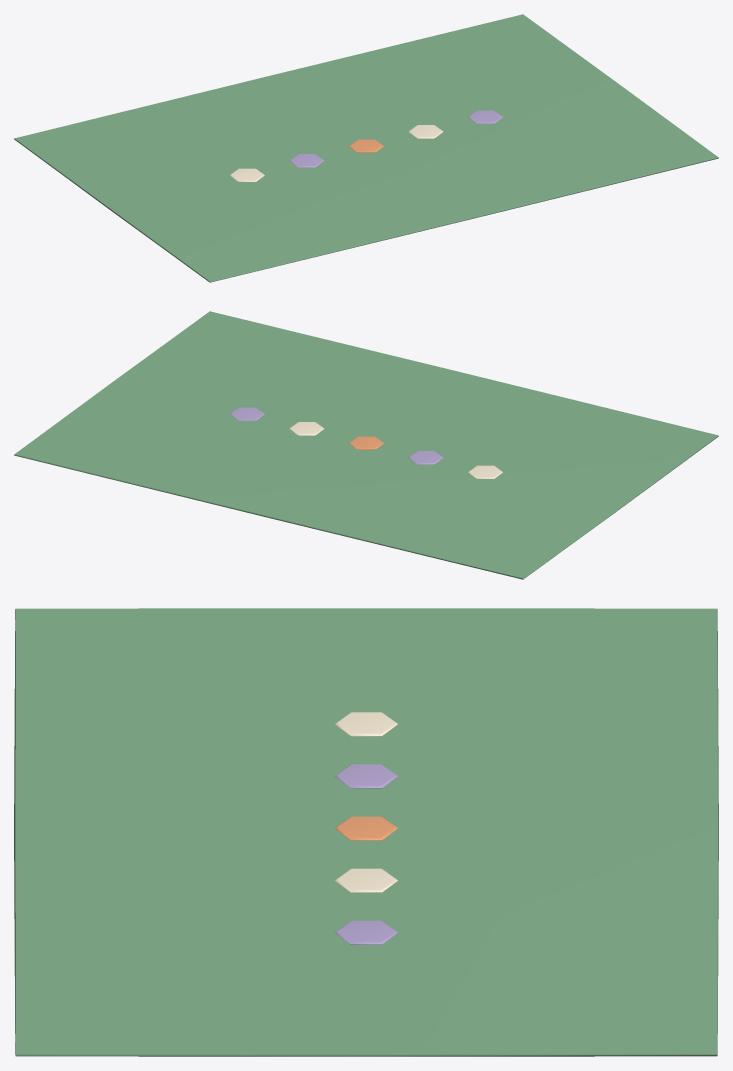
The model's file is card-mat.glb.
3 renders of one model, top to bottom at view 1: azimuth 30°, elevation 25°; view 2: azimuth 150°, elevation 25°; view 3: azimuth 270°, elevation 25°, orthographic. The views are drawn at different scales.
Parts seen in each view (by area): view 1: part; view 2: part; view 3: part (×6).
Boxes of the visible parts, <box> form: part: <box>14,14,718,282</box>; part: <box>14,311,718,579</box>; part (×6): <box>14,608,718,1056</box>.
Size of the model in its own units: 3 by 0.0235 by 2.
Materials: 1 (1 with a texture image).
